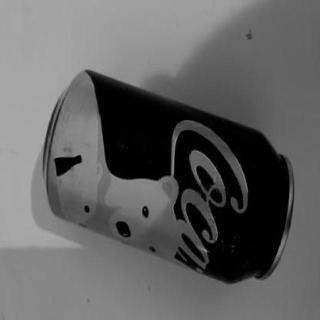alumunium_can: (42, 68, 296, 288)
